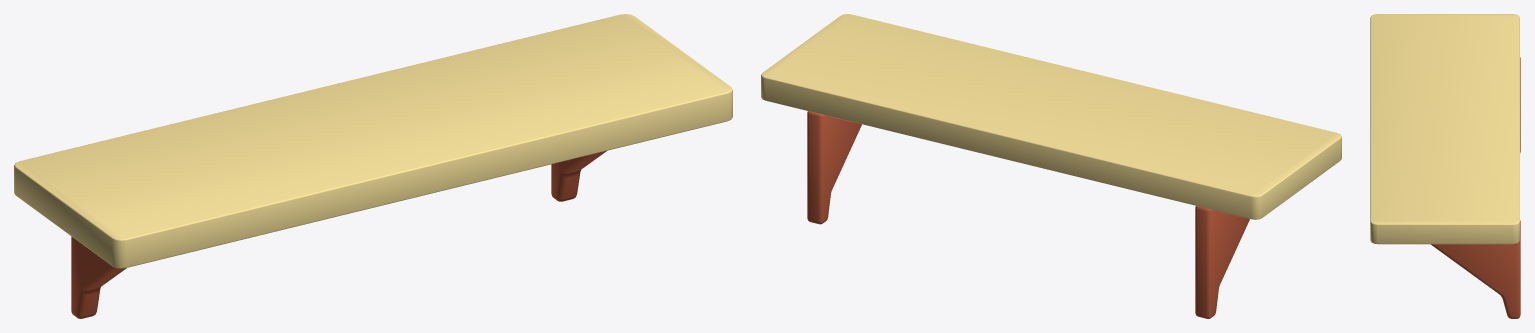
Rendered from prateleira_cozinha_classica.glb.
3 views of the same model, side by side, from view 1: azimuth 30°, elevation 25°; view 2: azimuth 150°, elevation 25°; view 3: azimuth 270°, elevation 25° (orthographic). The views are drawn at different scales.
Parts seen in each view (by area): view 1: prateleira_cozinha_classica; view 2: prateleira_cozinha_classica; view 3: prateleira_cozinha_classica.
Part boxes in pixels (bbox=[...]): prateleira_cozinha_classica: bbox=[14, 14, 732, 318]; prateleira_cozinha_classica: bbox=[761, 14, 1341, 318]; prateleira_cozinha_classica: bbox=[1370, 14, 1520, 318].
Size of the model in its own units: 0.8 by 0.206 by 0.241.
1 material, 1 textured.
